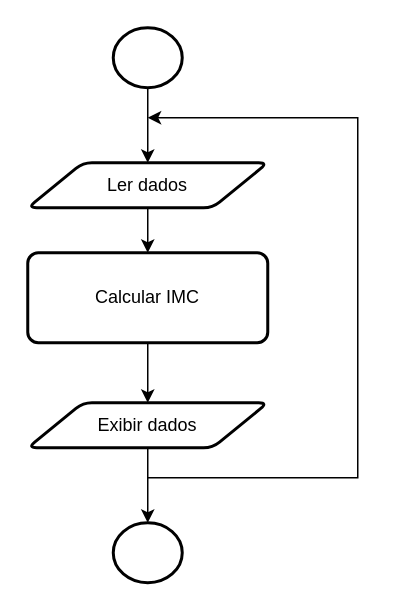
Some shapes in this 396 by 609 pixel diagram are drawn without their labels. The shapes that lost their labels are listed below. From the top down, each one's centre as x and y in pixels, then its label:
the point at 147,57: Inicio
the point at 147,552: Fim
